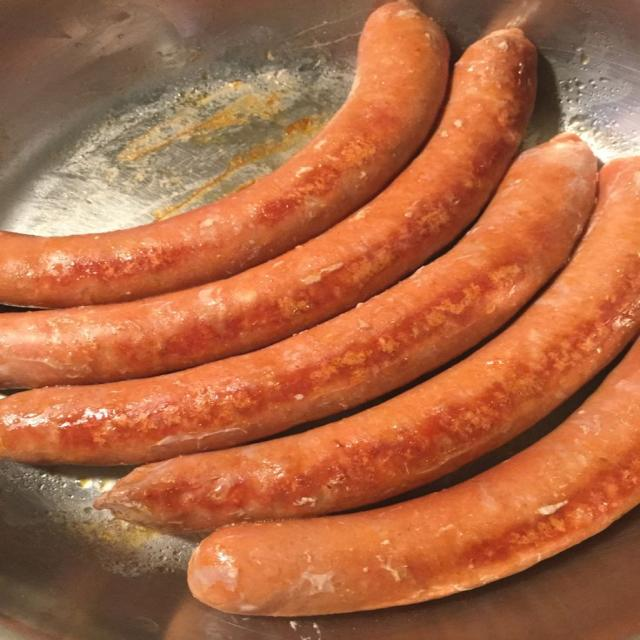sausage: (99, 158, 639, 531), (0, 135, 596, 464), (0, 30, 536, 388), (0, 2, 448, 307), (188, 344, 639, 615)
